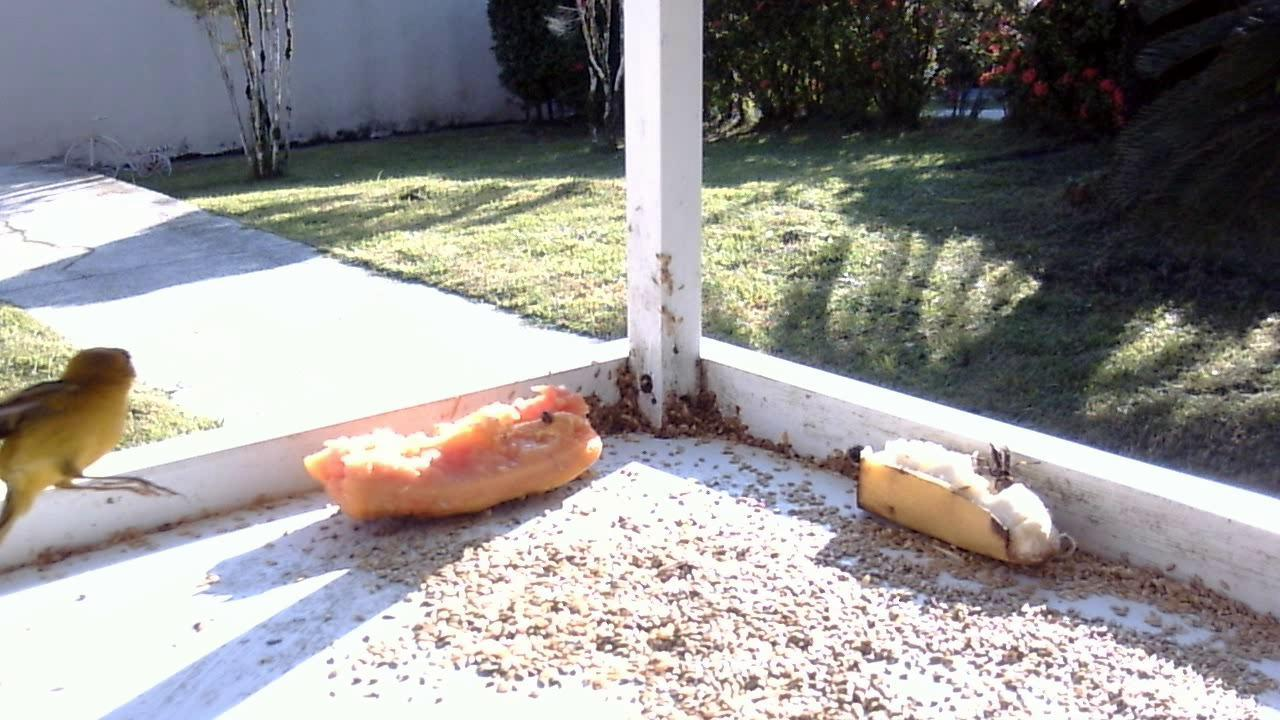canario_do_amazonas: (1, 341, 189, 557)
